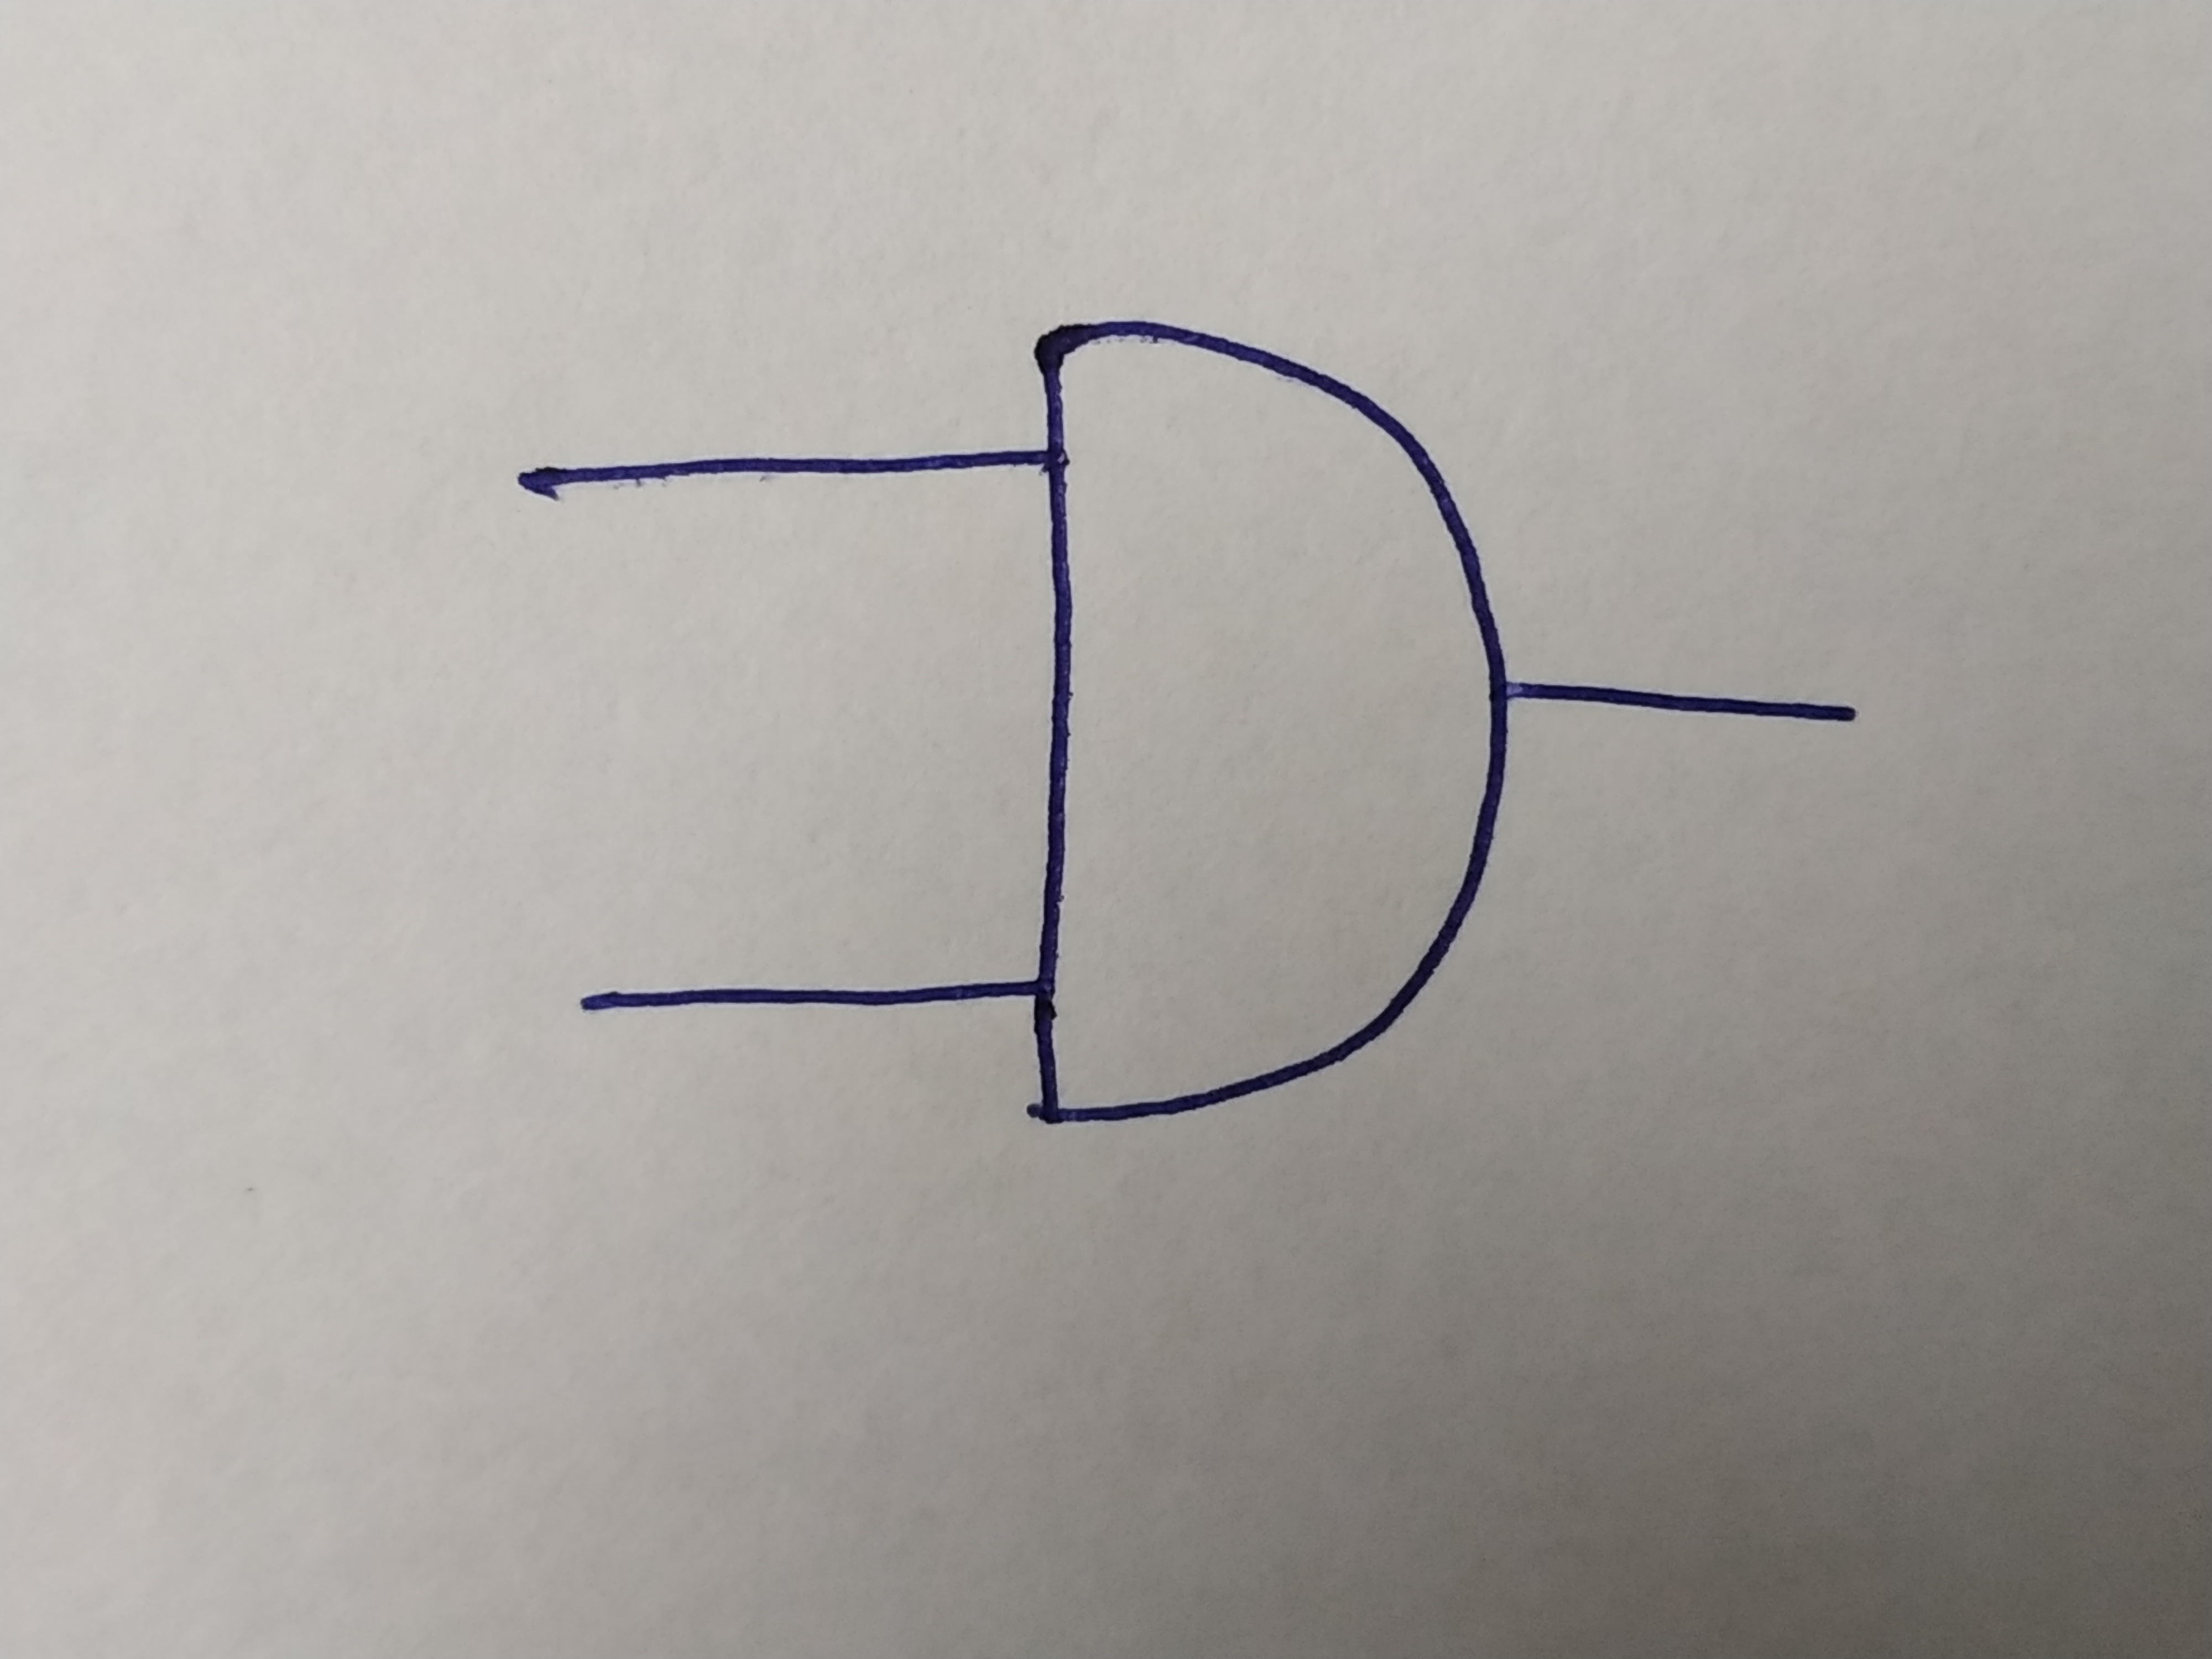and: (1015, 314, 1510, 1124)
